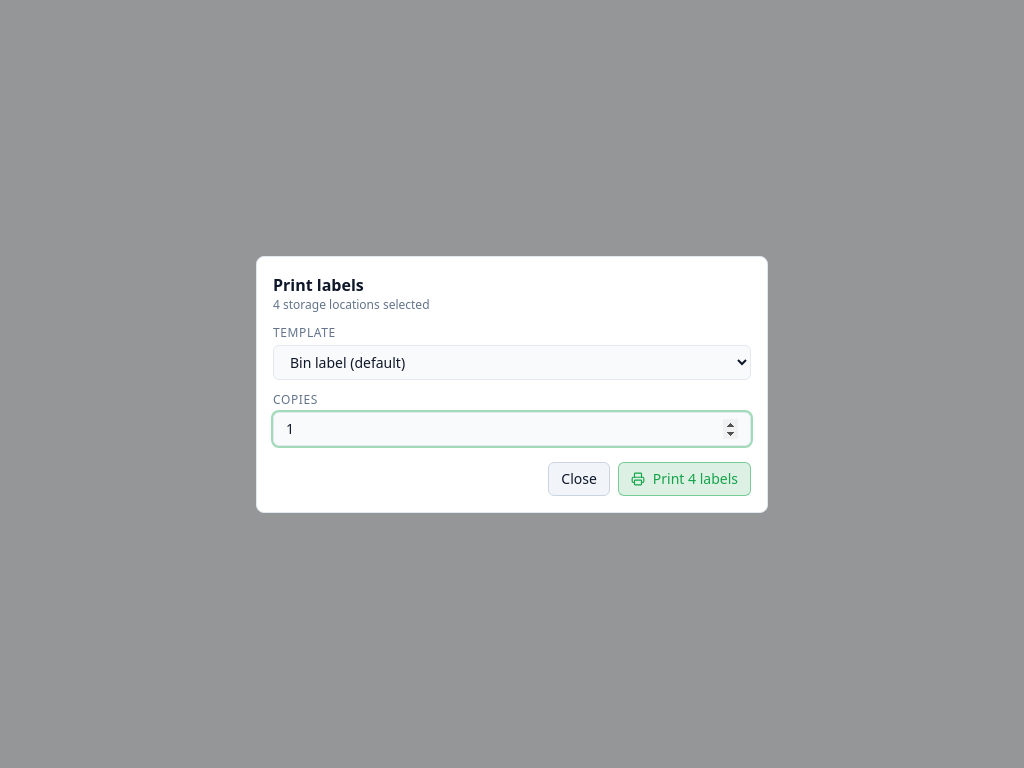
Scenario: BatchPrintDialog › stops at the first printer failure and reports how far it got
The width and height of the screenshot is (1024, 768).
Click the button "Print 4 labels": click(684, 478) [618,462,751,496]
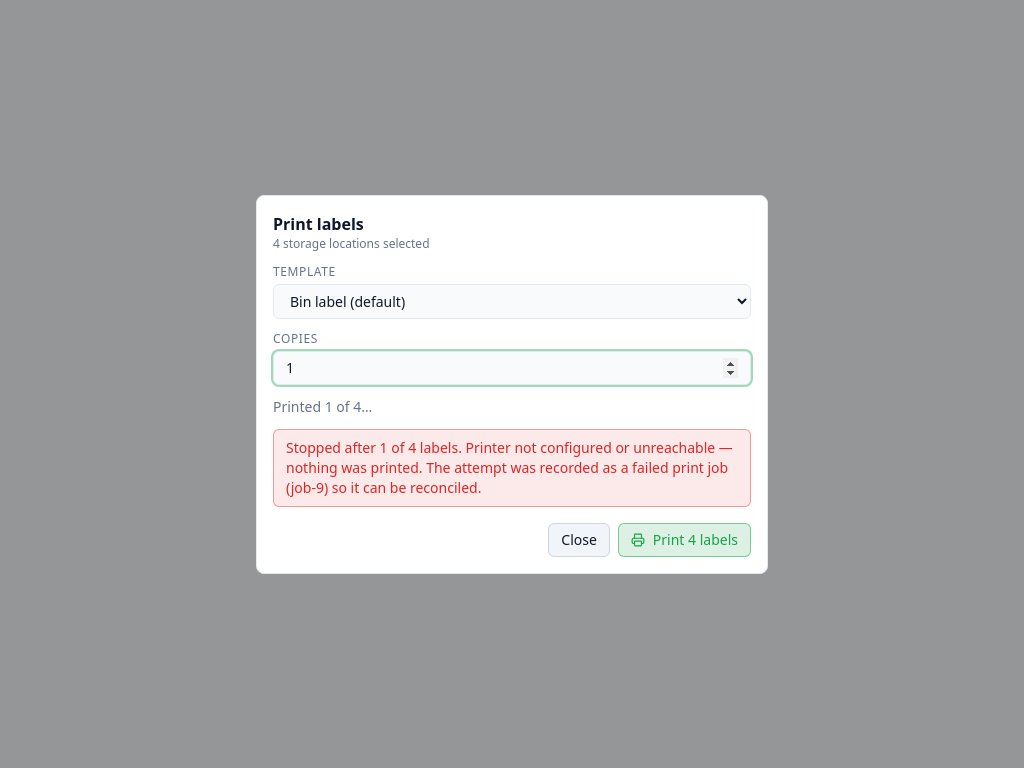
Result: the message shows "Stopped after 1 of 4 labels" at [286,438,733,496]
Result: the message shows "Printer not configured or unreachable" at [286,438,733,496]
